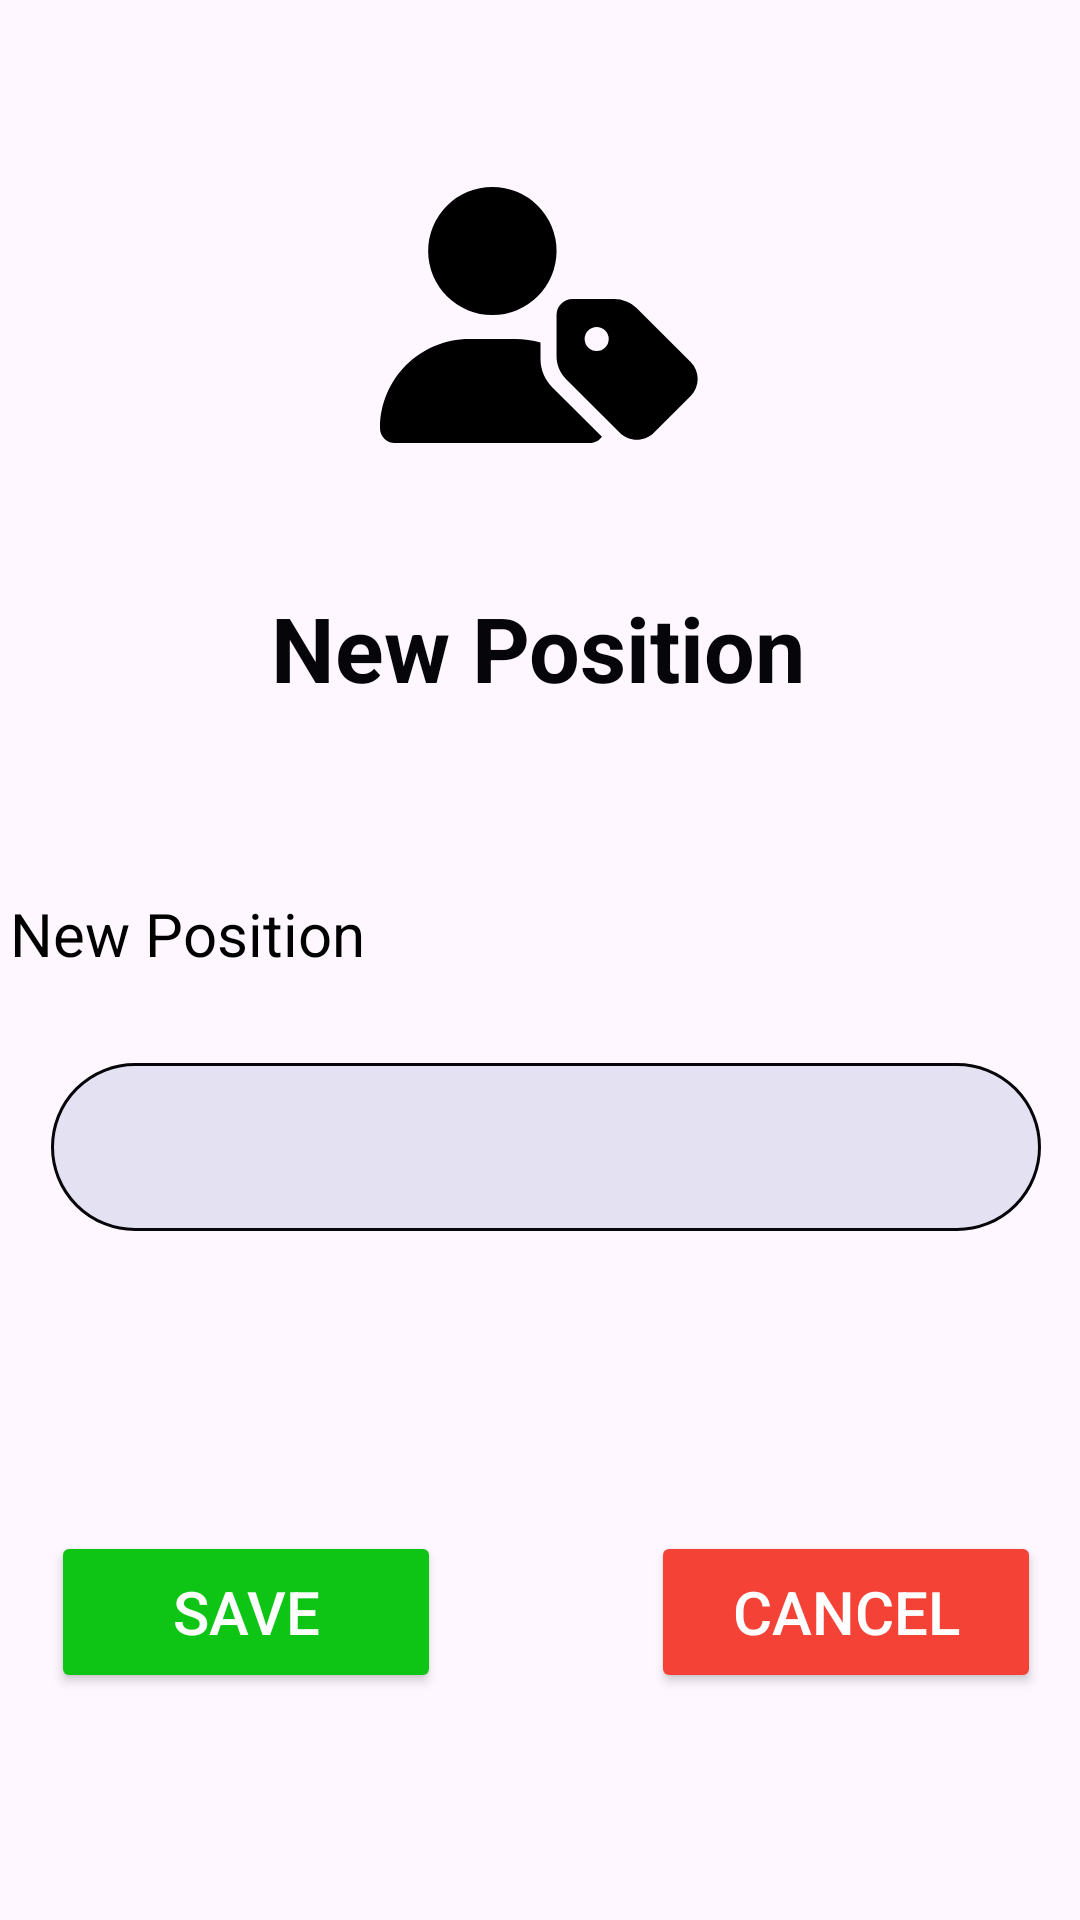

Named icons in this screenshot (1080 × 1920) and their centers, (x,y):
user tag: (539,315)
